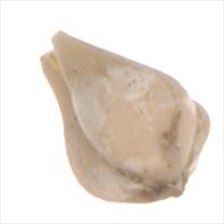L1: (39, 30, 68, 75), (153, 169, 189, 199)
L2: (39, 30, 210, 204)
